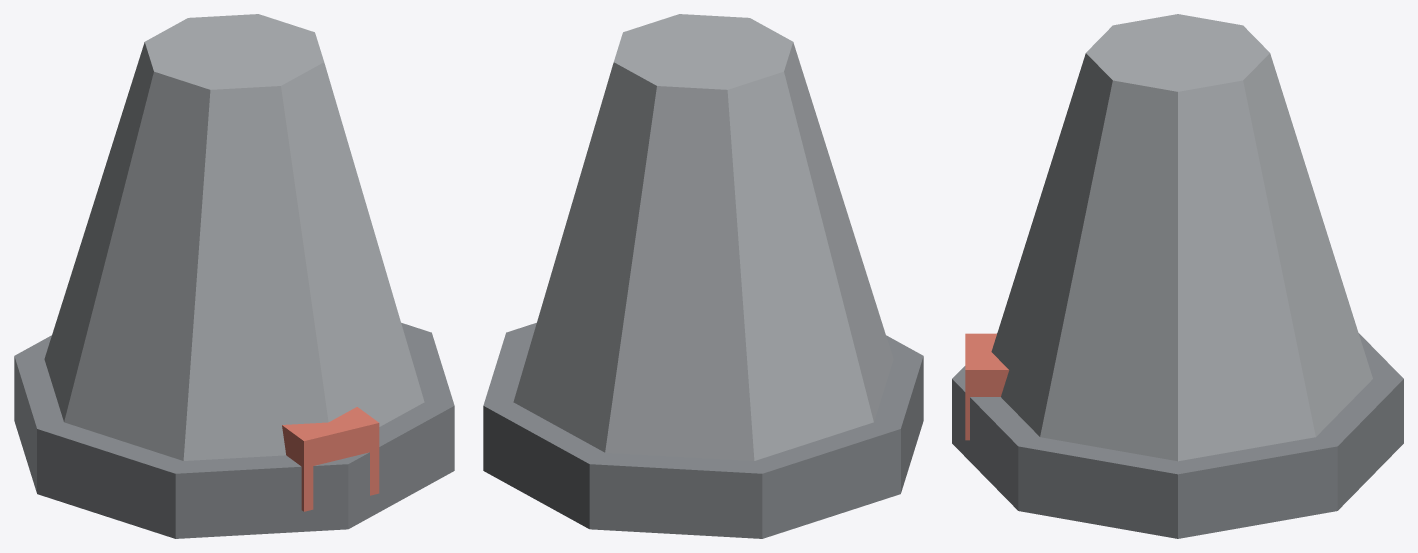
File: SM_LargeFurnace.fbx
3 views of the same model, side by side, from view 1: azimuth 30°, elevation 25°; view 2: azimuth 150°, elevation 25°; view 3: azimuth 270°, elevation 25° (orthographic).
Visible parts, largest first — view 1: SM_LargeFurnace; view 2: SM_LargeFurnace; view 3: SM_LargeFurnace.
Part boxes in pixels (<box>): SM_LargeFurnace: <box>14,14,454,538</box>; SM_LargeFurnace: <box>483,14,923,538</box>; SM_LargeFurnace: <box>952,14,1403,538</box>.
Size of the model in its own units: 30400 by 30400 by 29000.
